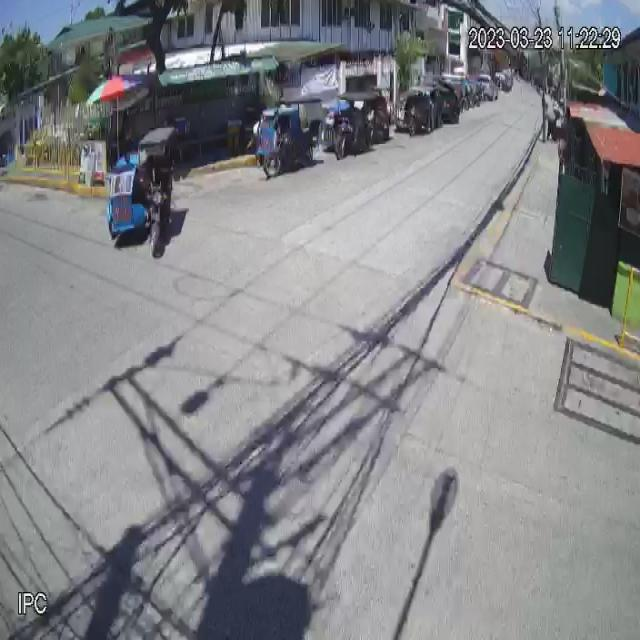Tricycle: (105, 127, 177, 255)
